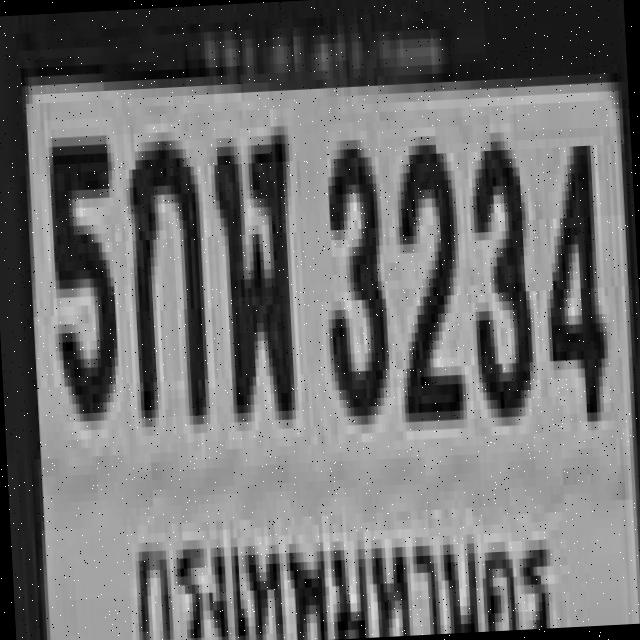10GorGai: (124, 130, 206, 418)
2: (388, 136, 464, 414)
3: (315, 130, 388, 418), (462, 132, 532, 410)
4: (536, 137, 608, 415)
5: (44, 127, 120, 414)
51LorChula: (210, 117, 297, 414)
Bangkok: (120, 496, 562, 640)
